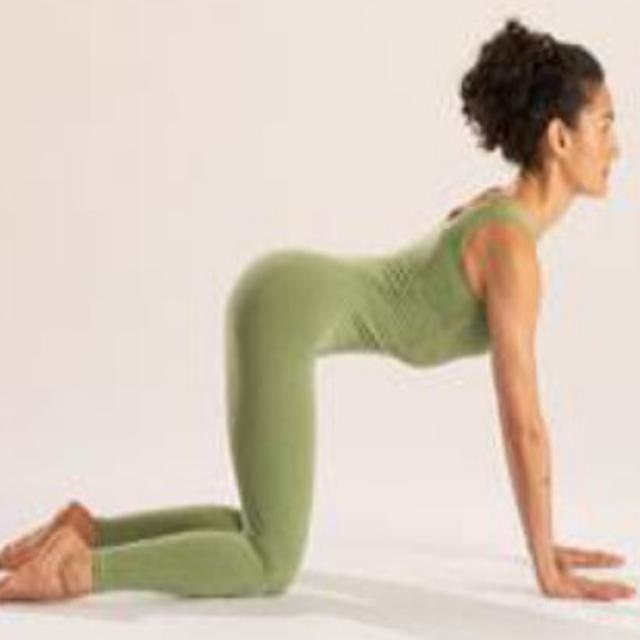Cow_Pose: (7, 42, 632, 605)
